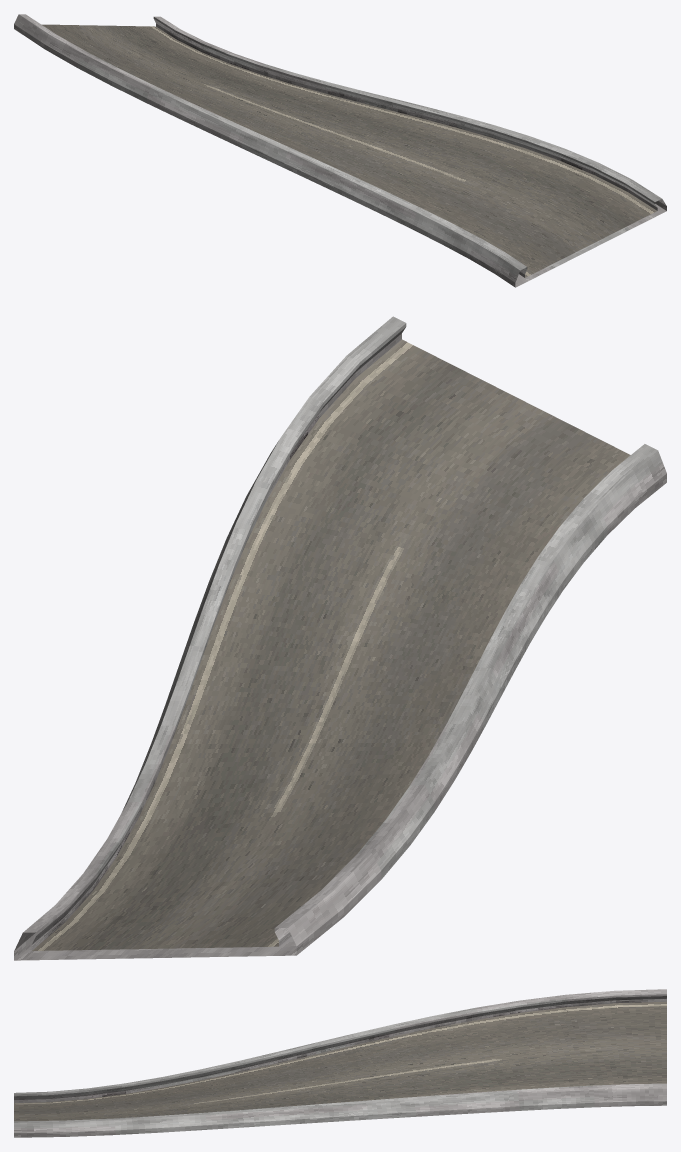
The model's file is chicane-left1x4.glb.
3 views of the same model, one above another, from view 1: azimuth 30°, elevation 25°; view 2: azimuth 150°, elevation 25°; view 3: azimuth 270°, elevation 25° (orthographic). The views are drawn at different scales.
Parts seen in each view (by area): view 1: road-Chicane-HalfBankedLeft-HalfBankedRight-Even-Left1-Size4; view 2: road-Chicane-HalfBankedLeft-HalfBankedRight-Even-Left1-Size4; view 3: road-Chicane-HalfBankedLeft-HalfBankedRight-Even-Left1-Size4.
Part boxes in pixels (x1,y1,x2,y2): road-Chicane-HalfBankedLeft-HalfBankedRight-Even-Left1-Size4: [14, 14, 666, 287]; road-Chicane-HalfBankedLeft-HalfBankedRight-Even-Left1-Size4: [14, 316, 666, 960]; road-Chicane-HalfBankedLeft-HalfBankedRight-Even-Left1-Size4: [14, 989, 666, 1137].
Bounding box in the file's own units: 2 × 0.3359 × 4.
Materials: 2 (2 with a texture image).
